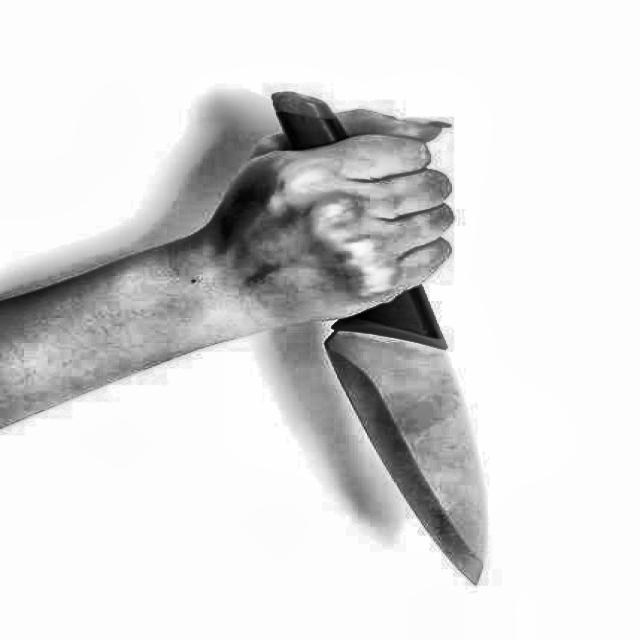pisau: (225, 73, 503, 590)
